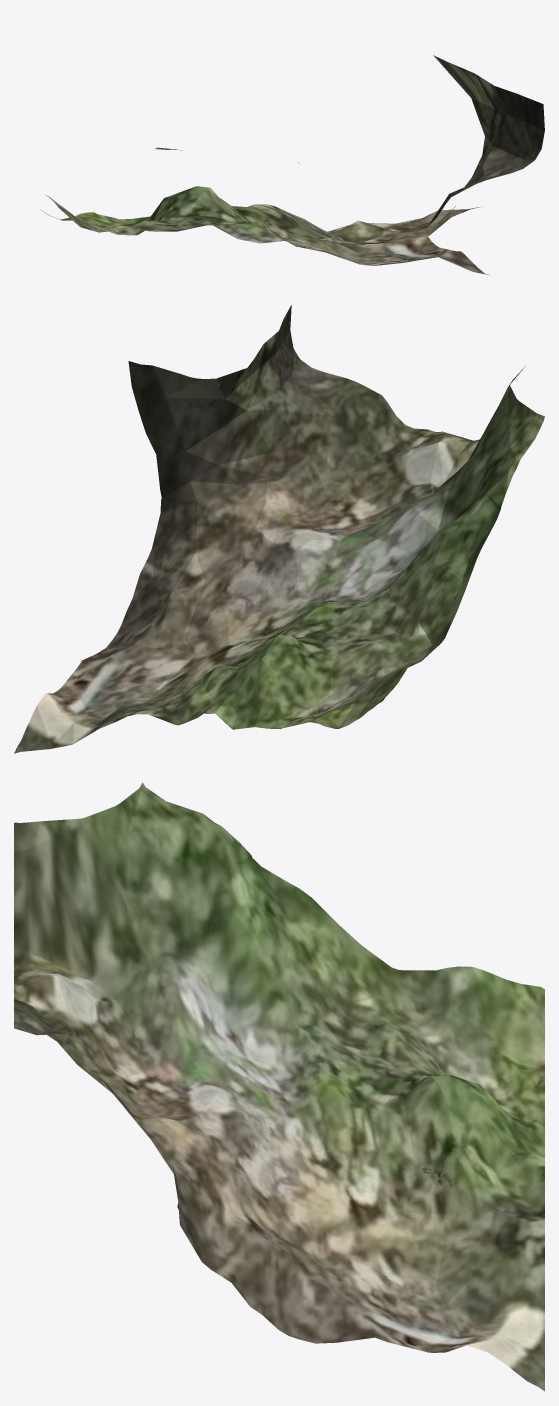
3 renders of one model, top to bottom at view 1: azimuth 30°, elevation 25°; view 2: azimuth 150°, elevation 25°; view 3: azimuth 270°, elevation 25°, orthographic. The views are drawn at different scales.
Size of the model in its own units: 2.95 by 2.36 by 2.95.
Materials: 3 (3 with a texture image).
